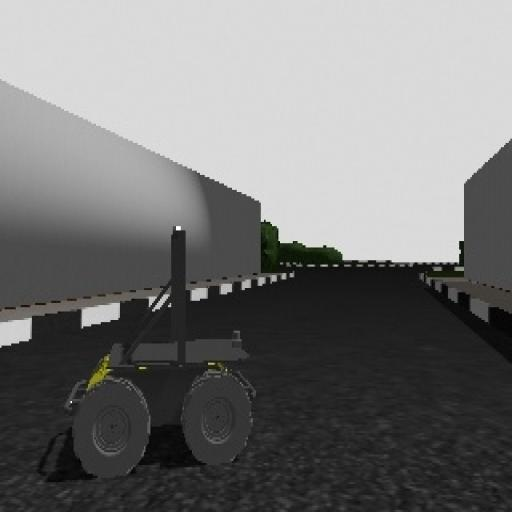huskya200: (62, 219, 272, 470)
